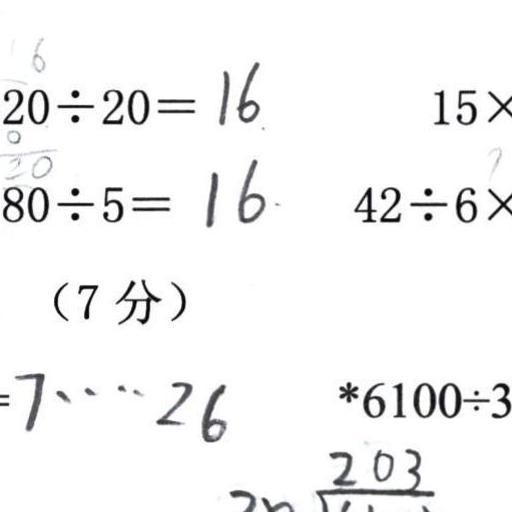ans: (11, 365, 229, 444), (197, 154, 265, 227), (211, 57, 261, 125)
